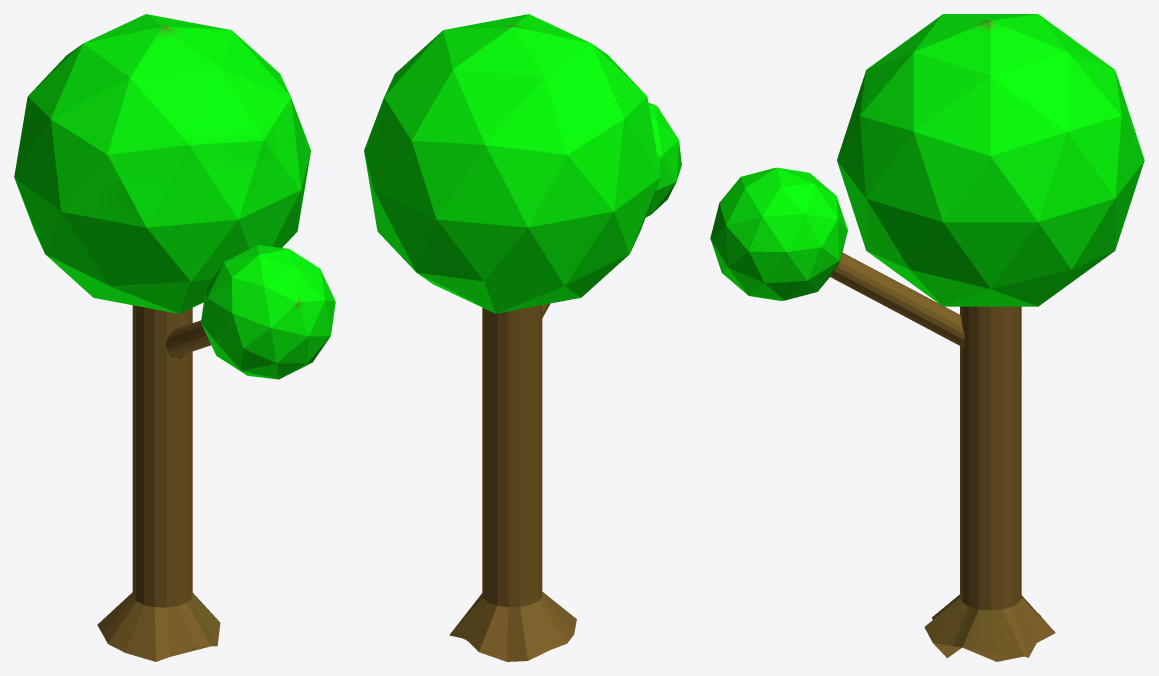
File: tree.glb
The picture shows the model from 3 angles, left to right: view 1: azimuth 30°, elevation 25°; view 2: azimuth 150°, elevation 25°; view 3: azimuth 270°, elevation 25°; orthographic projection.
Parts seen in each view (by area): view 1: Cylinder; view 2: Cylinder; view 3: Cylinder.
Boxes of the visible parts, box(x1,y1,x2,y2) form: Cylinder: box(14, 14, 335, 661); Cylinder: box(364, 14, 681, 661); Cylinder: box(710, 14, 1144, 661).
Size of the model in its own units: 9.51 by 22.26 by 14.11.
Materials: 1 (1 with a texture image).
